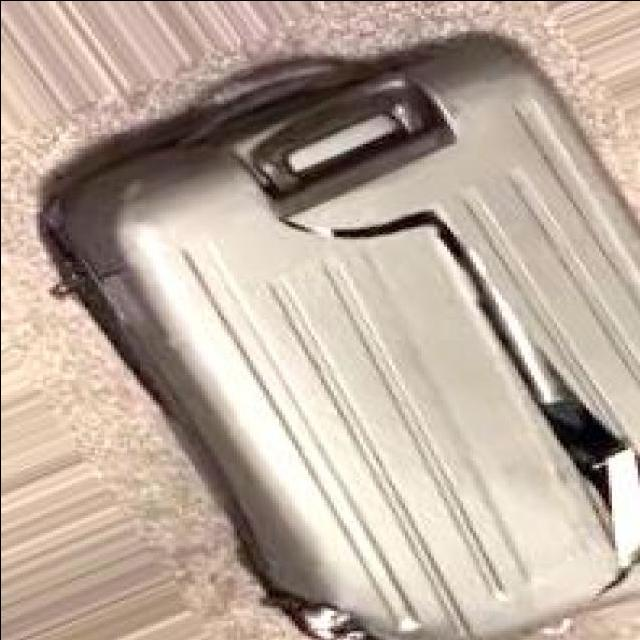Damage-bag: (40, 203, 376, 640), (279, 211, 640, 591)
